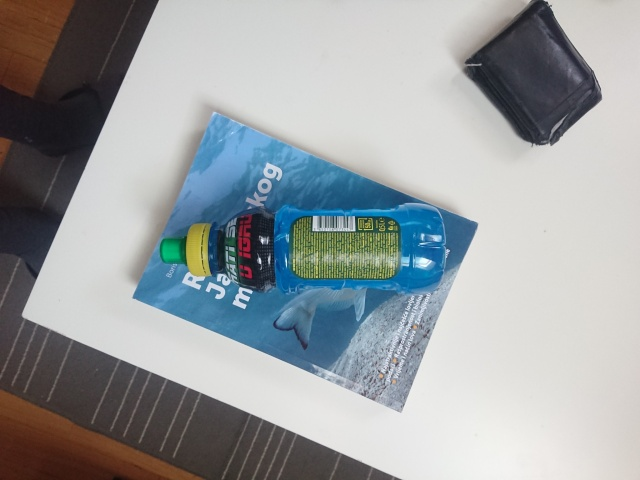Vindi Iso Sport Forest Strawberries 500mL: (157, 199, 447, 294)
